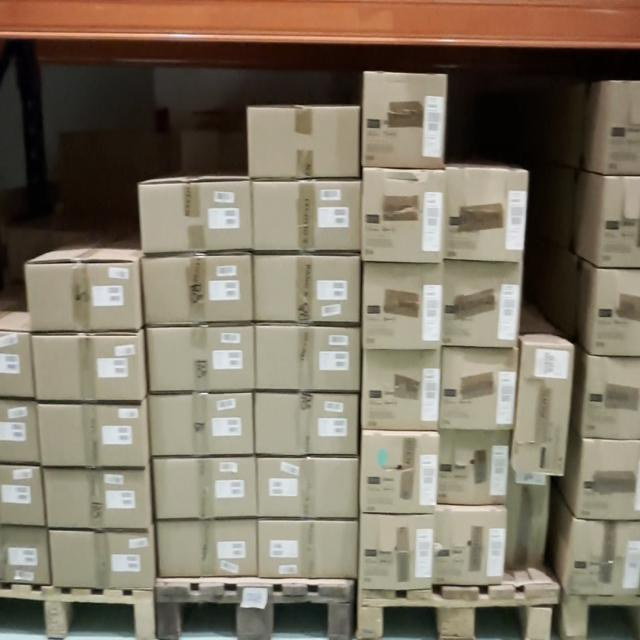box: (140, 180, 252, 252), (513, 345, 575, 475), (26, 264, 137, 333), (250, 178, 359, 248), (249, 106, 356, 177), (446, 169, 527, 262), (141, 257, 252, 324), (364, 76, 446, 166), (146, 326, 255, 390), (364, 173, 444, 258), (363, 264, 442, 349), (255, 392, 358, 457), (32, 335, 138, 398), (255, 258, 359, 320), (38, 407, 145, 466), (258, 328, 359, 390), (445, 264, 521, 346), (45, 467, 150, 526), (361, 434, 437, 514), (151, 395, 254, 454), (440, 350, 518, 427), (156, 519, 257, 578), (257, 462, 359, 520), (150, 459, 257, 514), (50, 531, 152, 588), (363, 352, 440, 426), (258, 522, 358, 577), (438, 431, 510, 505), (361, 516, 434, 587), (436, 512, 505, 584)
